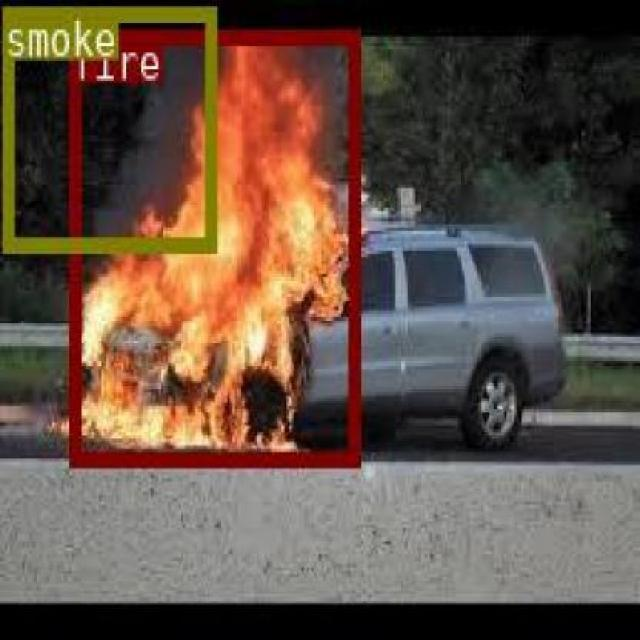Fire: (67, 26, 358, 463)
Smoke: (1, 5, 214, 248)
